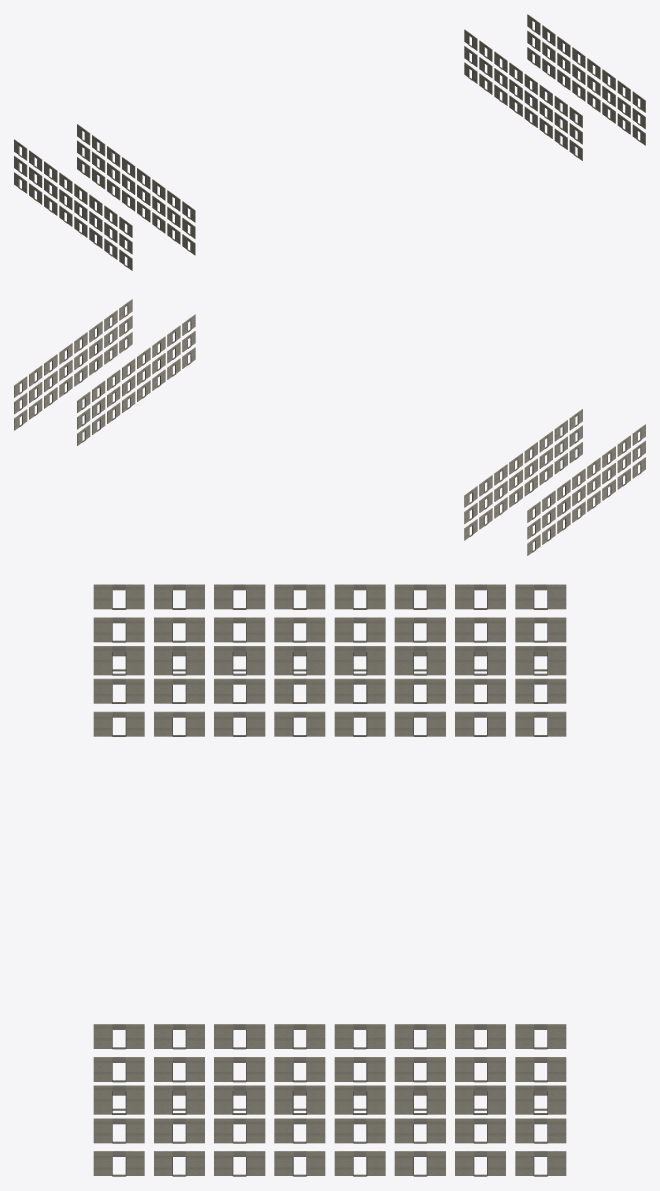
The model's file is LRP02_frames.gltf.
3 renders of one model, top to bottom at view 1: azimuth 30°, elevation 25°; view 2: azimuth 150°, elevation 25°; view 3: azimuth 270°, elevation 25°, orthographic. The views are drawn at different scales.
Bounding box in the file's own units: 133 × 11.1 × 52.74.
Materials: 3 (3 with a texture image).
